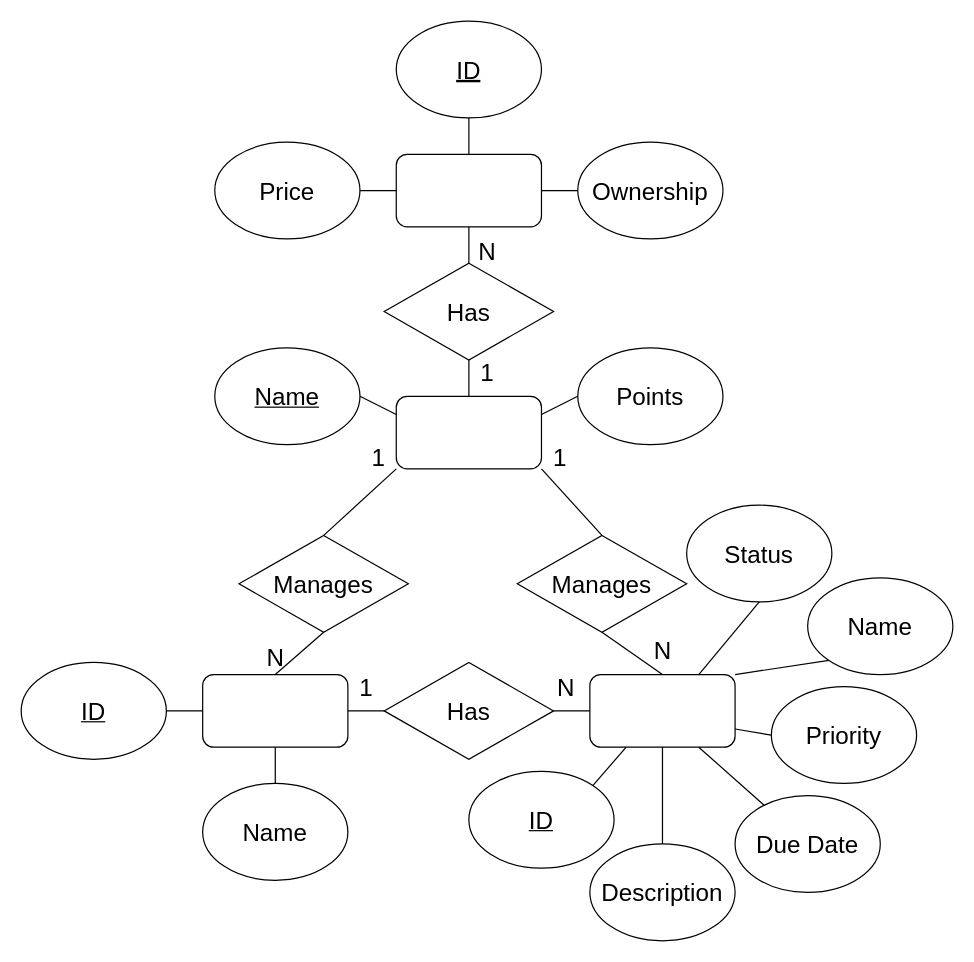
Image size: 974x962. Some labels were removed from this diagram. The centre of each missing label's shape, as x and y in pixels:
"Folder" goes at (274,710).
"Items" goes at (468,190).
"Task" goes at (662,710).
"User" goes at (468,432).
